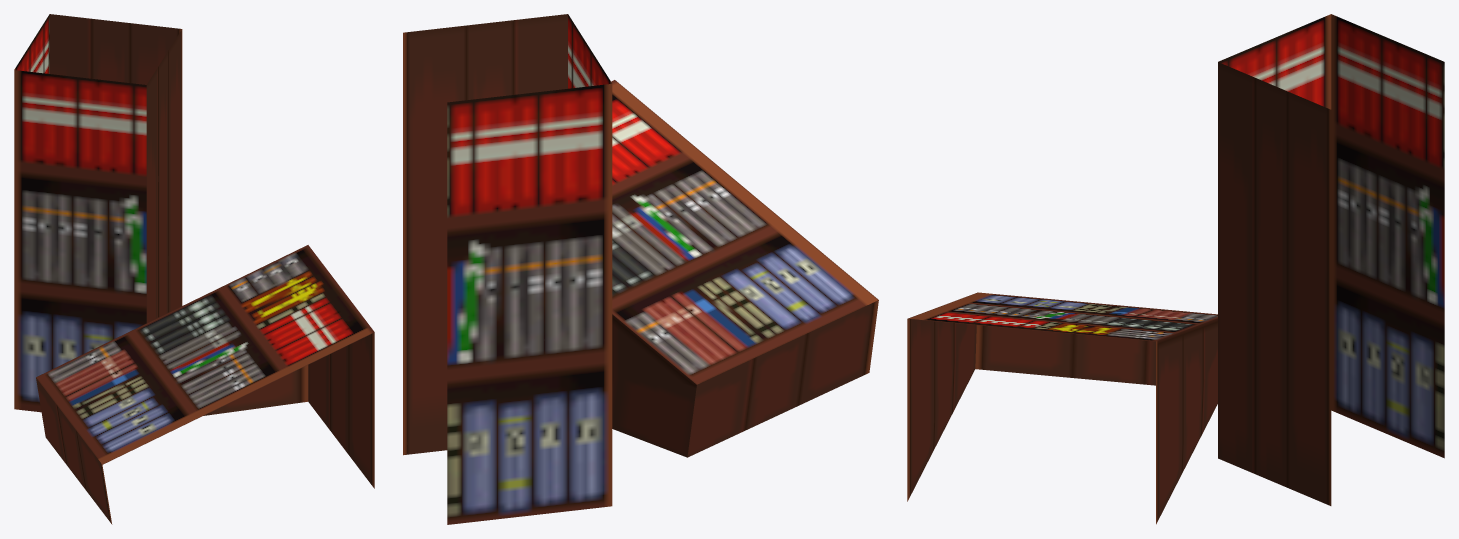
File: TankstellenTheke_Diverses_1760.glb
3 views of the same model, side by side, from view 1: azimuth 30°, elevation 25°; view 2: azimuth 150°, elevation 25°; view 3: azimuth 270°, elevation 25° (orthographic). The views are drawn at different scales.
Visible parts, largest first — view 1: pPlaneShape28, pPlaneShape7, pPlaneShape29, pPlaneShape26, pPlaneShape9, pPlaneShape8, pPlaneShape10, pPlaneShape27; view 2: pPlaneShape27, pPlaneShape7, pPlaneShape29, pPlaneShape8, pPlaneShape10, pPlaneShape28; view 3: pPlaneShape27, pPlaneShape29, pPlaneShape10, pPlaneShape7, pPlaneShape8, pPlaneShape11, pPlaneShape28.
Boxes of the visible parts, box(x1,y1,x2,y2) form: pPlaneShape28: box(14, 70, 146, 412); pPlaneShape7: box(36, 245, 374, 464); pPlaneShape29: box(146, 29, 182, 322); pPlaneShape26: box(49, 14, 181, 84); pPlaneShape9: box(308, 332, 374, 488); pPlaneShape8: box(36, 378, 112, 524); pPlaneShape10: box(203, 365, 308, 415); pPlaneShape27: box(14, 14, 49, 73); pPlaneShape27: box(447, 84, 612, 524); pPlaneShape7: box(611, 80, 878, 384); pPlaneShape29: box(403, 14, 567, 455); pPlaneShape8: box(687, 300, 878, 457); pPlaneShape10: box(612, 314, 696, 457); pPlaneShape28: box(568, 14, 611, 88); pPlaneShape27: box(1331, 14, 1444, 458); pPlaneShape29: box(1218, 62, 1331, 505); pPlaneShape10: box(1156, 318, 1217, 524); pPlaneShape7: box(908, 292, 1217, 341); pPlaneShape8: box(975, 325, 1155, 385); pPlaneShape11: box(907, 319, 976, 501); pPlaneShape28: box(1218, 14, 1331, 109).
Size of the model in its own units: 0.1215 by 0.1397 by 0.1715.
10 materials, 10 textured.
